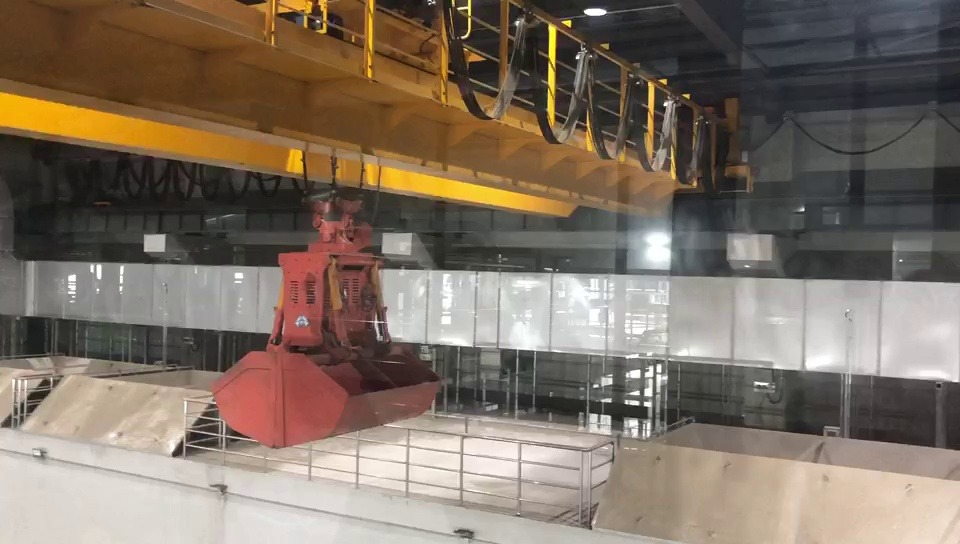grab: (206, 188, 443, 450)
